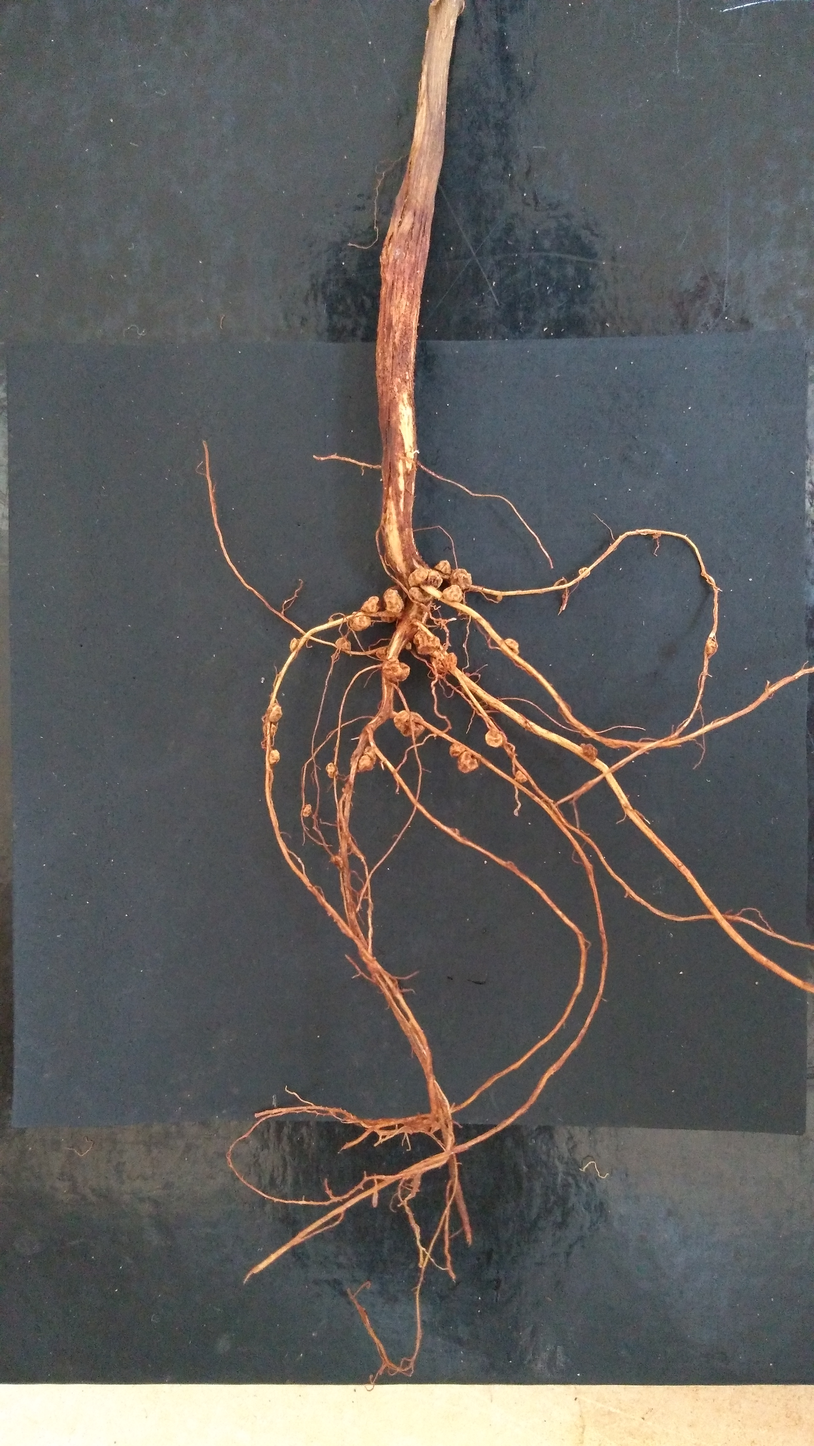nodule: (408, 568, 443, 602), (394, 710, 425, 737), (413, 629, 440, 655), (382, 657, 410, 682), (430, 652, 457, 673), (383, 588, 405, 613), (449, 568, 472, 590), (457, 751, 478, 773), (349, 611, 371, 631), (350, 754, 373, 772), (443, 584, 463, 603), (501, 638, 519, 657), (580, 743, 598, 761), (361, 596, 380, 613), (485, 730, 503, 747), (434, 560, 450, 579), (267, 702, 282, 722), (262, 720, 278, 737), (449, 742, 466, 757), (363, 746, 376, 765), (335, 637, 351, 651), (326, 762, 339, 778), (515, 770, 528, 783), (331, 854, 343, 868), (289, 638, 301, 652), (376, 646, 388, 660), (269, 750, 280, 765), (706, 639, 717, 654), (578, 567, 590, 578), (302, 804, 311, 817), (380, 616, 396, 623), (496, 595, 503, 602), (405, 642, 411, 650), (465, 672, 470, 678)
